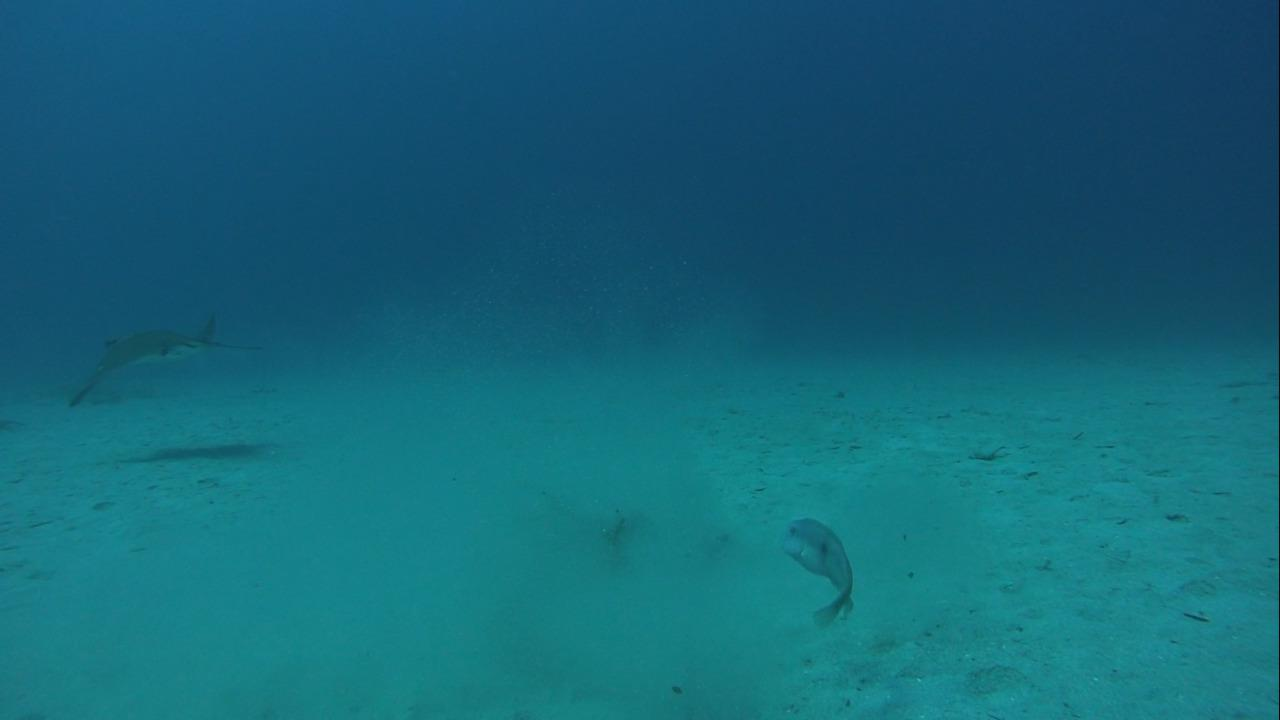myliobatis: (64, 309, 286, 407)
raor: (772, 511, 858, 629)
